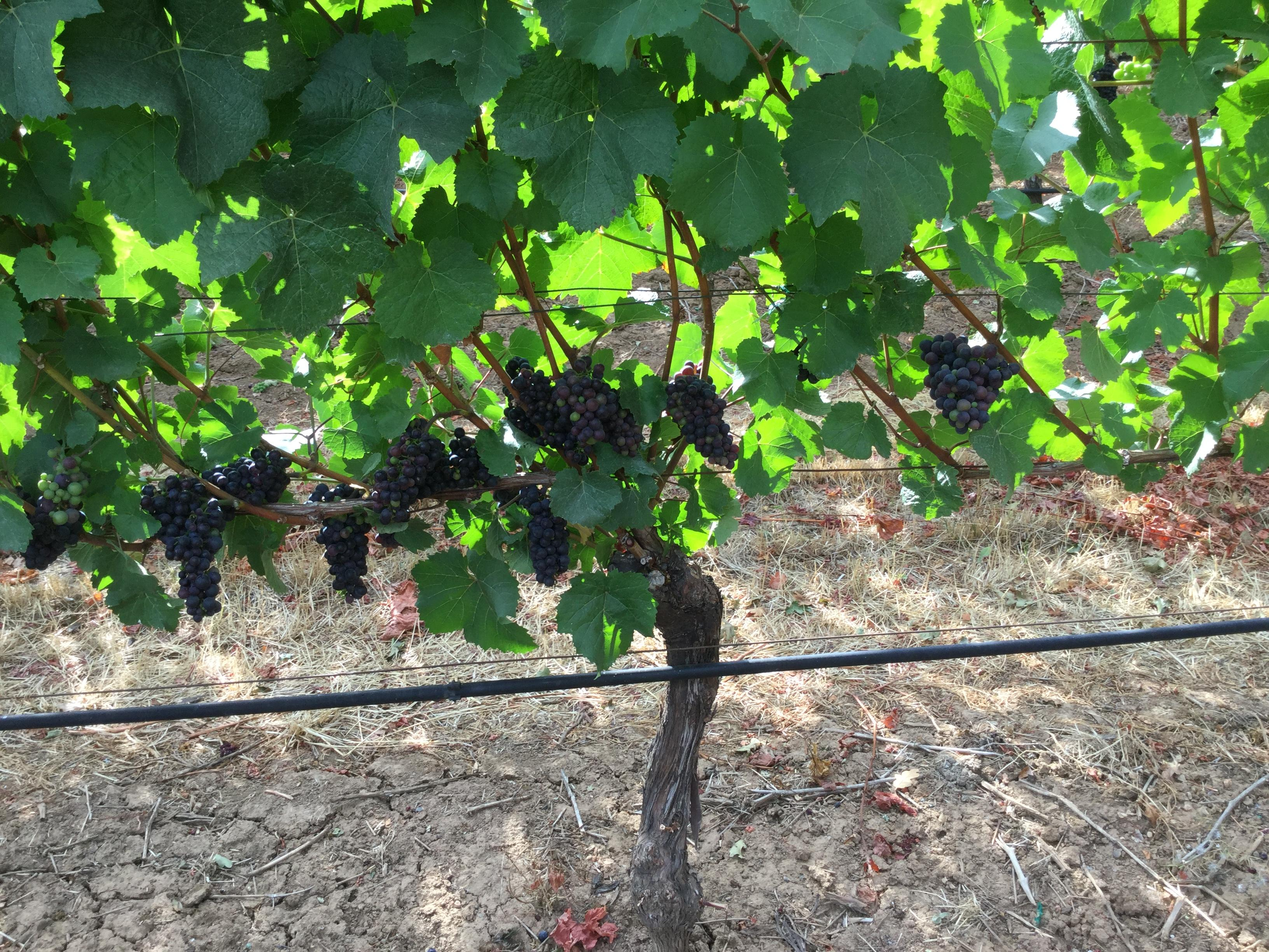leaf: (59, 0, 304, 187), (292, 33, 476, 229), (783, 66, 951, 268), (495, 50, 677, 230), (196, 161, 385, 334), (68, 105, 205, 244), (671, 112, 787, 247), (1045, 11, 1131, 173), (376, 237, 497, 345), (406, 0, 529, 105), (412, 549, 535, 652), (935, 0, 1051, 109), (748, 0, 911, 74), (0, 0, 100, 119), (946, 214, 1063, 314), (536, 0, 699, 71), (556, 570, 655, 670), (68, 542, 180, 630), (548, 231, 656, 309), (780, 291, 876, 377), (971, 392, 1056, 488), (992, 90, 1078, 180), (0, 131, 80, 226), (780, 213, 863, 294), (670, 0, 749, 82), (411, 187, 504, 255), (1152, 37, 1233, 115), (411, 549, 481, 632), (734, 415, 805, 496), (13, 236, 101, 301), (1121, 277, 1197, 351), (222, 514, 287, 595), (61, 318, 142, 380), (1221, 300, 1268, 402), (455, 150, 522, 220), (736, 338, 798, 413), (1168, 353, 1230, 423), (463, 598, 537, 653), (871, 271, 933, 335), (1059, 200, 1113, 273), (822, 401, 891, 458), (551, 469, 621, 525), (947, 135, 993, 218), (900, 462, 963, 518), (1168, 410, 1222, 474), (475, 421, 538, 475), (615, 359, 665, 424), (1193, 0, 1268, 42), (600, 475, 655, 532), (1078, 322, 1124, 384), (0, 488, 31, 552), (0, 285, 24, 366), (1235, 424, 1268, 473), (739, 9, 775, 48), (476, 555, 502, 565), (742, 364, 750, 378), (501, 566, 510, 576), (746, 389, 751, 395), (746, 382, 752, 387), (1225, 352, 1227, 366), (795, 296, 801, 300), (601, 443, 607, 446), (0, 11, 2, 16), (788, 385, 791, 388), (658, 30, 661, 32), (771, 401, 775, 402), (728, 17, 729, 19), (72, 119, 72, 120)
